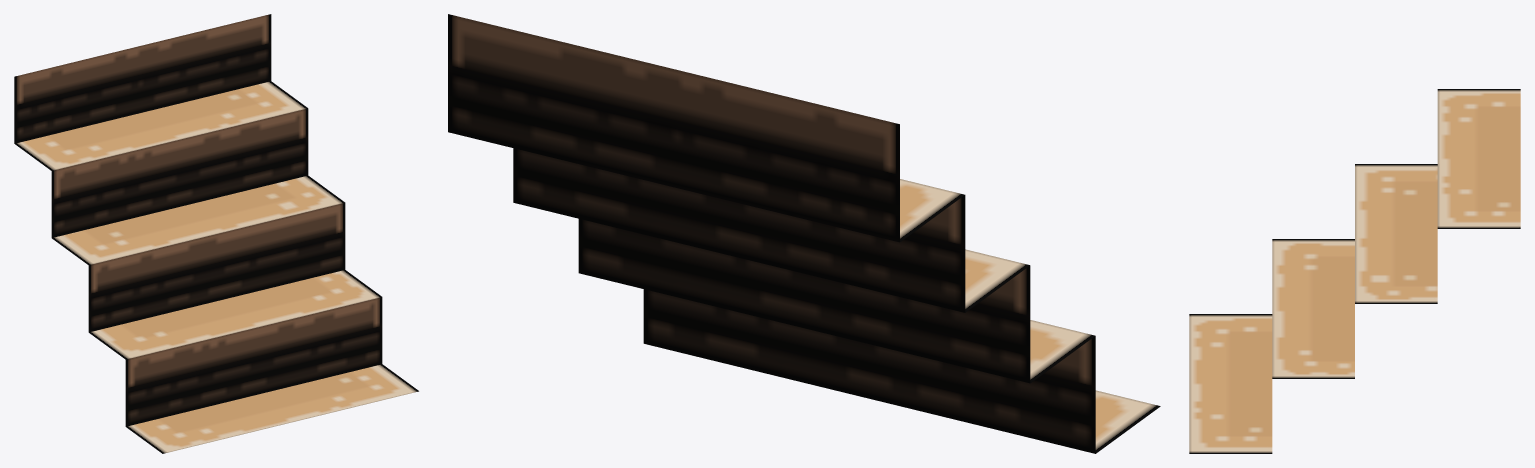
The model's file is stairs_noWalls.FBX.
The picture shows the model from 3 angles, left to right: view 1: azimuth 30°, elevation 25°; view 2: azimuth 150°, elevation 25°; view 3: azimuth 270°, elevation 25°; orthographic projection. The views are drawn at different scales.
Visible parts, largest first — view 1: stairs_noWalls; view 2: stairs_noWalls; view 3: stairs_noWalls.
Boxes of the visible parts, <box> form: stairs_noWalls: <box>14,14,418,453</box>; stairs_noWalls: <box>448,14,1160,453</box>; stairs_noWalls: <box>1189,89,1520,453</box>.
Size of the model in its own units: 2 by 2 by 2.
Materials: 1 (1 with a texture image).
